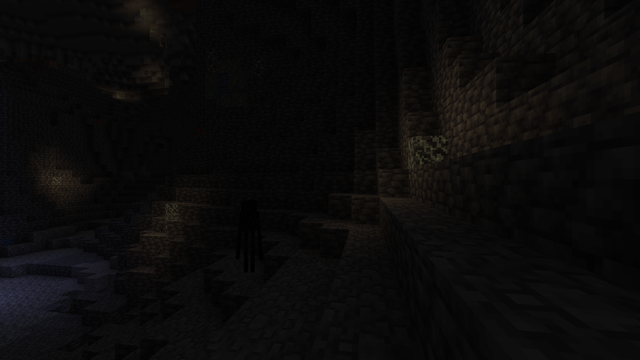endermens: (238, 197, 259, 274)
